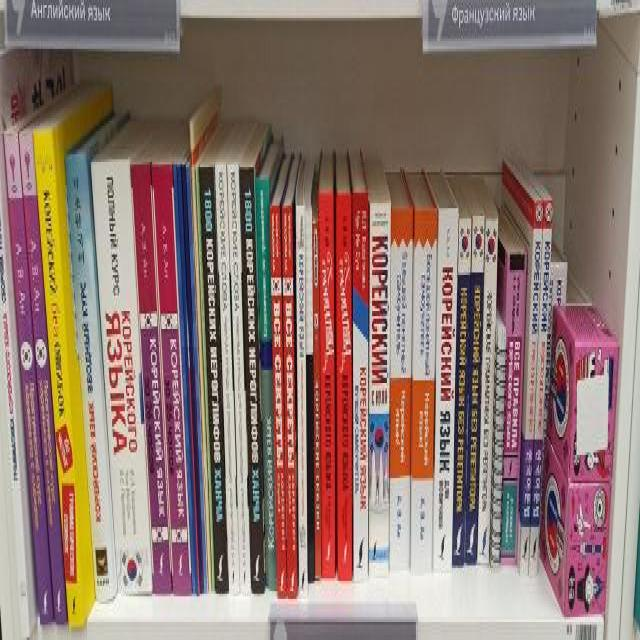book: (92, 161, 153, 595), (34, 131, 85, 630), (4, 132, 54, 627), (18, 134, 68, 623), (64, 154, 117, 598), (130, 162, 172, 595), (152, 162, 192, 595), (200, 164, 230, 592), (226, 163, 252, 591), (215, 164, 240, 594), (410, 208, 438, 572), (240, 167, 264, 590), (434, 207, 459, 574), (254, 179, 276, 589), (520, 198, 543, 577), (530, 197, 553, 573), (500, 252, 527, 567), (369, 200, 391, 574), (392, 206, 414, 571), (478, 218, 498, 565), (452, 220, 472, 564), (318, 190, 335, 578), (466, 215, 484, 564), (352, 190, 368, 582), (270, 207, 286, 596), (336, 194, 352, 580), (282, 204, 296, 598), (296, 206, 307, 591), (305, 208, 314, 582), (313, 221, 322, 580)
